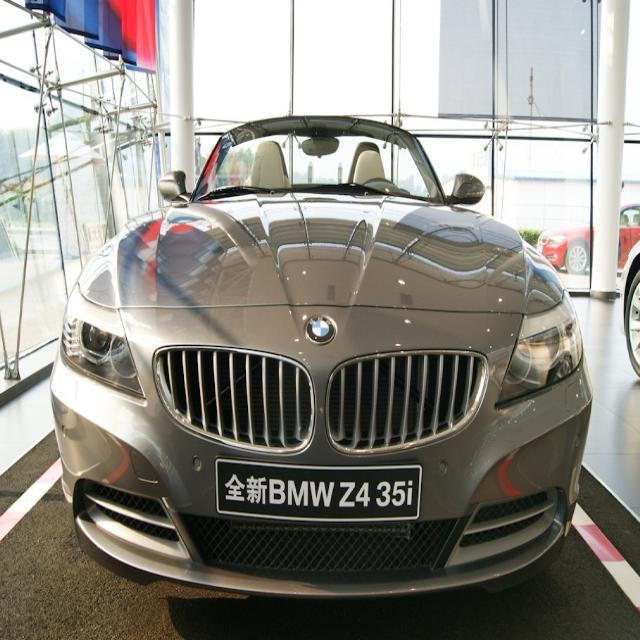front_bumper: (48, 301, 593, 601)
front_glass: (196, 117, 447, 206)
front_left_side_light: (497, 286, 582, 411)
front_left_side_mirror: (449, 172, 486, 207)
front_right_side_light: (58, 281, 146, 405)
front_right_side_mirror: (156, 169, 192, 204)
